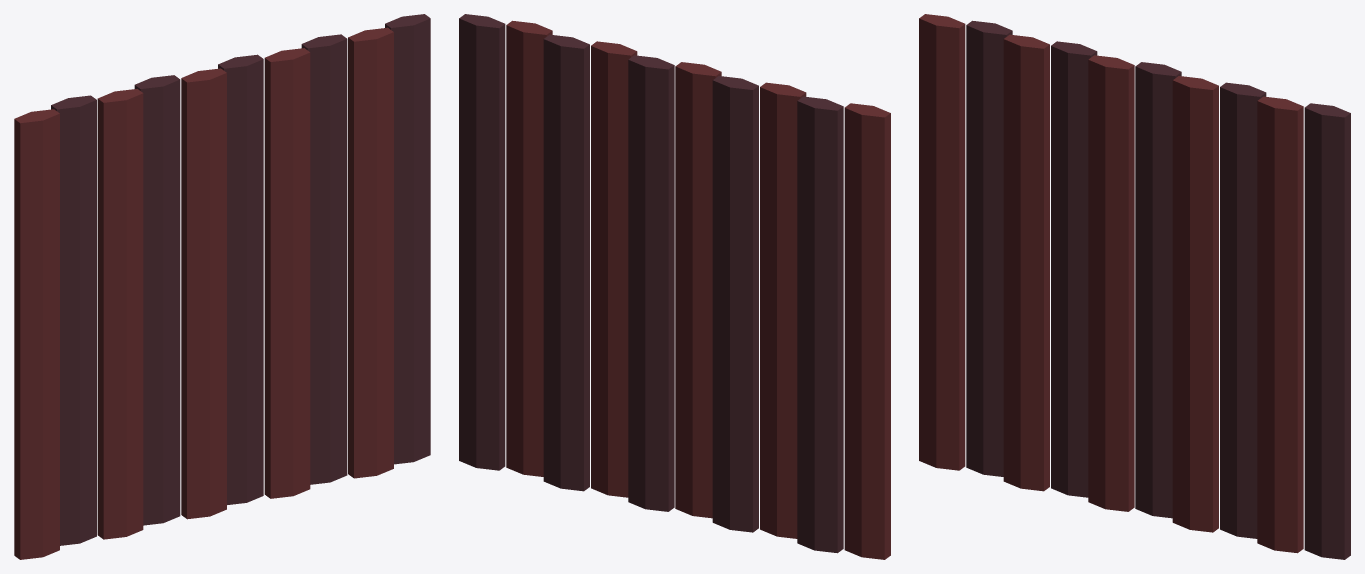
The model's file is draperie.glb.
3 renders of one model, left to right at view 1: azimuth 30°, elevation 25°; view 2: azimuth 150°, elevation 25°; view 3: azimuth 330°, elevation 25°, orthographic.
Visible parts, largest first — view 1: Draperie; view 2: Draperie; view 3: Draperie.
Part boxes in pixels (x1,y1,x2,y2): Draperie: (14,14,430,559); Draperie: (459,14,890,559); Draperie: (919,14,1350,559).
Bounding box in the file's own units: 0.9953 × 1 × 0.0695.
